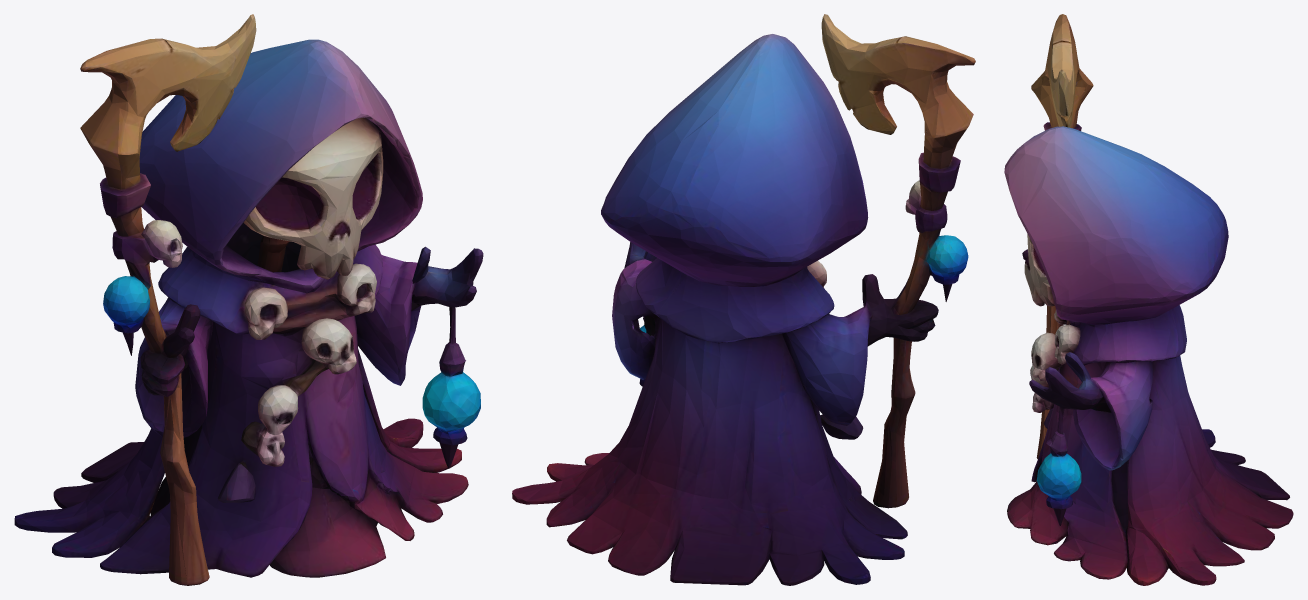
The model's file is skeleton-mage.glb.
The picture shows the model from 3 angles, left to right: view 1: azimuth 30°, elevation 25°; view 2: azimuth 150°, elevation 25°; view 3: azimuth 270°, elevation 25°; orthographic projection. The views are drawn at different scales.
Visible parts, largest first — view 1: world; view 2: world; view 3: world.
Boxes of the visible parts, x1=… form: world: x1=14, y1=14, x2=483, y2=585; world: x1=512, y1=14, x2=975, y2=585; world: x1=1004, y1=14, x2=1293, y2=585.
Bounding box in the file's own units: 0.8267 × 0.9956 × 0.6223.
1 material, 1 textured.
